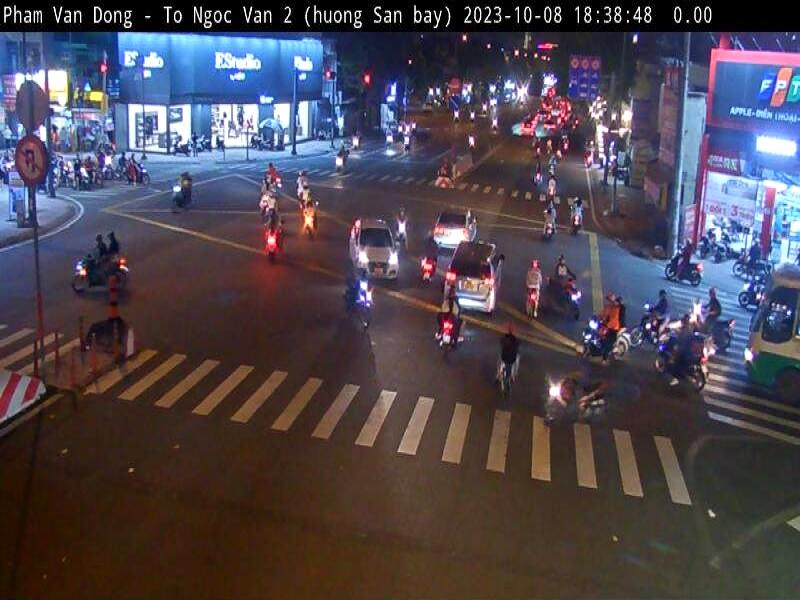bus: (743, 268, 800, 404)
car: (443, 241, 506, 317), (345, 215, 403, 288), (432, 201, 479, 252)
motorcycle: (539, 379, 617, 426), (653, 331, 708, 391), (69, 253, 136, 294), (683, 308, 736, 357), (576, 317, 626, 366), (629, 304, 679, 350), (548, 274, 588, 323), (343, 281, 378, 336), (437, 310, 458, 362), (499, 358, 521, 394), (525, 285, 544, 324)
